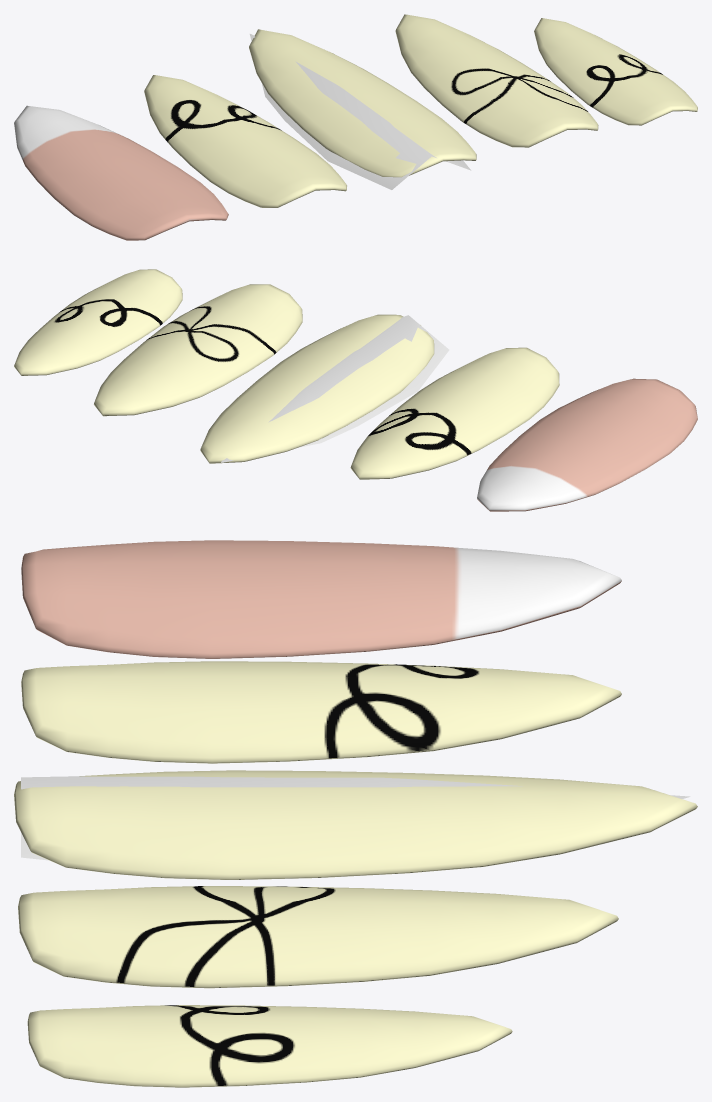
The model's file is modelcreampitablend2.glb.
The picture shows the model from 3 angles, top to bottom: view 1: azimuth 30°, elevation 25°; view 2: azimuth 150°, elevation 25°; view 3: azimuth 270°, elevation 25°; orthographic projection. The views are drawn at different scales.
Visible parts, largest first — view 1: Plane.005, nail_middle, nail_ring, nail_index, nail_pinky, Plane.001; view 2: Plane.005, nail_middle, nail_index, nail_ring, nail_pinky, Plane.001; view 3: Plane.005, nail_middle, nail_index, nail_ring, nail_pinky, Plane.001.
Boxes of the visible parts, x1,y1,x2,y2 form: Plane.005: (14, 105, 228, 240); nail_middle: (249, 29, 476, 177); nail_ring: (395, 14, 598, 147); nail_index: (144, 75, 346, 207); nail_pinky: (534, 18, 697, 125); Plane.001: (249, 34, 471, 189); Plane.005: (477, 378, 697, 511); nail_middle: (200, 314, 434, 463); nail_index: (350, 347, 559, 479); nail_ring: (94, 284, 302, 416); nail_pinky: (14, 269, 182, 375); Plane.001: (221, 315, 449, 462); Plane.005: (21, 540, 621, 658); nail_middle: (14, 770, 697, 879); nail_index: (21, 661, 621, 763); nail_ring: (18, 886, 618, 988); nail_pinky: (27, 1005, 512, 1087); Plane.001: (21, 776, 690, 860).
Bounding box in the file's own units: 0.049 × 0.00233 × 0.0266.
Materials: 6 (6 with a texture image).
